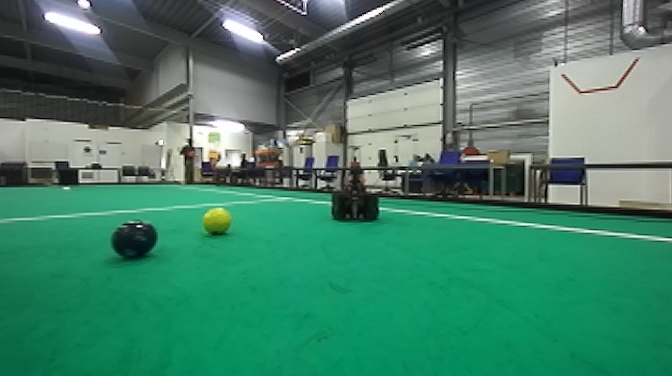ball: (109, 216, 159, 260), (202, 204, 233, 239)
robot: (332, 140, 383, 225)
